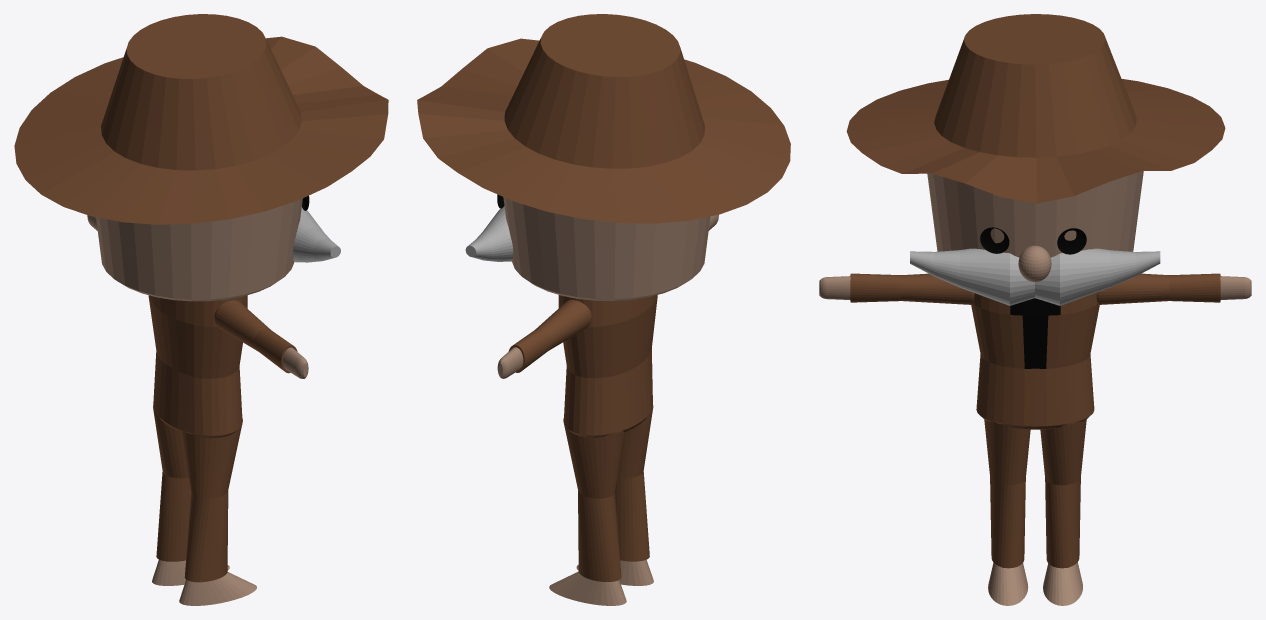
File: basicOldman.fbx
3 views of the same model, side by side, from view 1: azimuth 30°, elevation 25°; view 2: azimuth 150°, elevation 25°; view 3: azimuth 270°, elevation 25° (orthographic).
Visible parts, largest first — view 1: Cylinder.041, Headd.003, Cylinder.058, Cylinder.061, Cylinder.062, Cylinder.059, Cylinder.057, Cylinder.063, Cylinder.048, Cylinder.064; view 2: Cylinder.041, Headd.003, Cylinder.058, Cylinder.062, Cylinder.061, Cylinder.060, Cylinder.048, Cylinder.063, Cylinder.057, Cylinder.046; view 3: Cylinder.041, Cylinder.058, Headd.003, Cylinder.063, Cylinder.062, Cylinder.061, Cylinder.060, Cylinder.059, Cylinder.057, Cylinder.048, Eyes.008, Sphere (+2 smaller).
Part boxes in pixels (<box>): Cylinder.041: <box>14,14,388,224</box>; Headd.003: <box>96,198,302,301</box>; Cylinder.058: <box>148,295,247,438</box>; Cylinder.061: <box>181,418,242,582</box>; Cylinder.062: <box>153,405,191,561</box>; Cylinder.059: <box>214,300,297,373</box>; Cylinder.057: <box>179,572,256,605</box>; Cylinder.063: <box>293,207,340,262</box>; Cylinder.048: <box>152,559,229,585</box>; Cylinder.064: <box>283,347,308,378</box>; Cylinder.041: <box>417,14,790,223</box>; Headd.003: <box>503,197,710,300</box>; Cylinder.058: <box>558,295,657,437</box>; Cylinder.062: <box>563,418,624,581</box>; Cylinder.061: <box>615,405,653,561</box>; Cylinder.060: <box>508,300,591,372</box>; Cylinder.048: <box>549,571,626,605</box>; Cylinder.063: <box>465,206,513,261</box>; Cylinder.057: <box>576,559,653,585</box>; Cylinder.046: <box>497,347,523,378</box>; Cylinder.041: <box>846,14,1225,203</box>; Cylinder.058: <box>971,292,1099,429</box>; Headd.003: <box>927,171,1143,257</box>; Cylinder.063: <box>910,248,1160,305</box>; Cylinder.062: <box>1040,419,1086,568</box>; Cylinder.061: <box>984,420,1030,568</box>; Cylinder.060: <box>1096,273,1220,304</box>; Cylinder.059: <box>850,273,974,304</box>; Cylinder.057: <box>988,562,1028,605</box>; Cylinder.048: <box>1043,562,1082,605</box>; Eyes.008: <box>980,227,1086,254</box>; Sphere: <box>1018,245,1051,282</box>.
Size of the model in its own units: 301 by 484 by 346.
